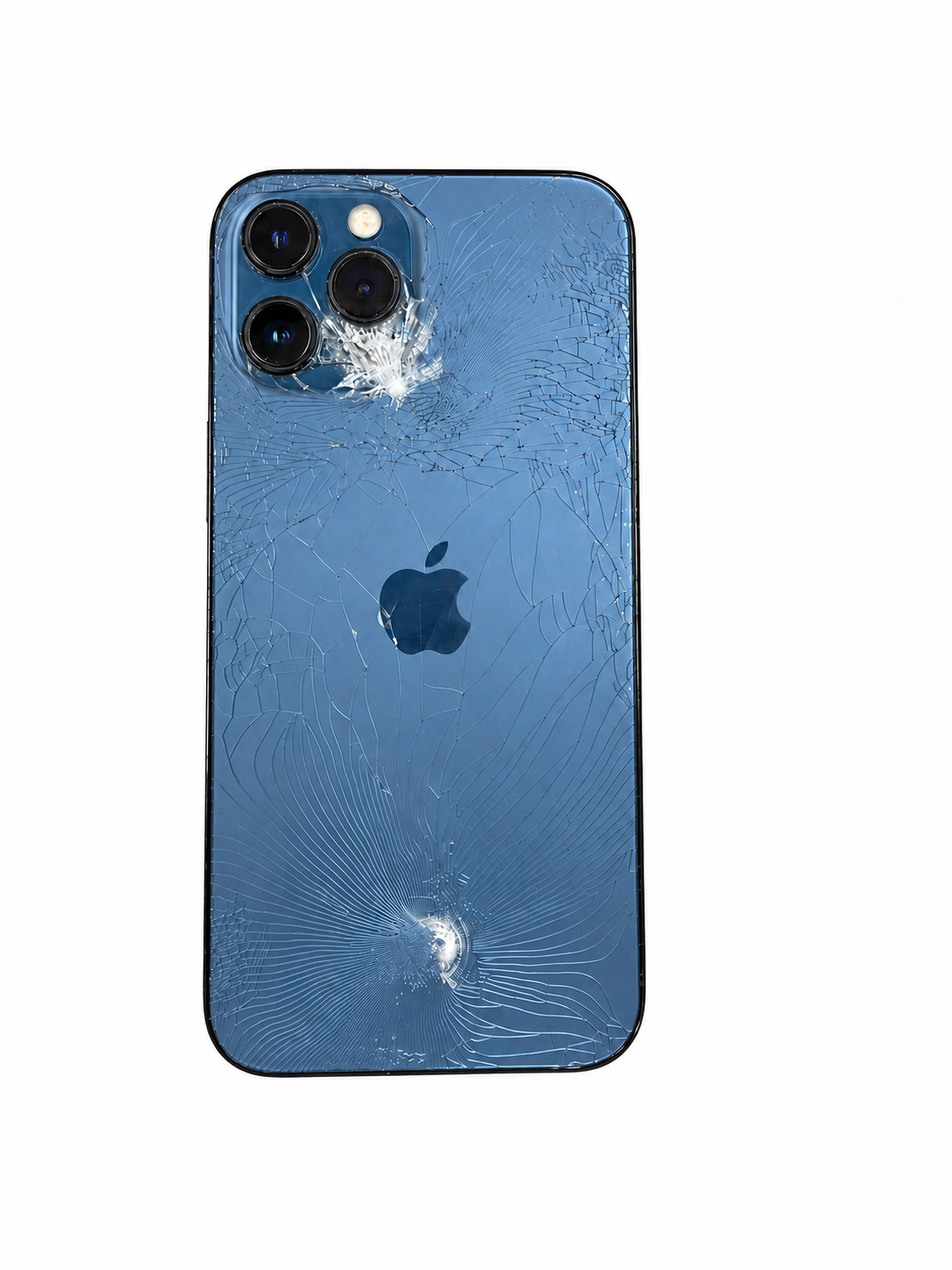iphone_12_pro_max_Crack: (177, 133, 756, 1168)
